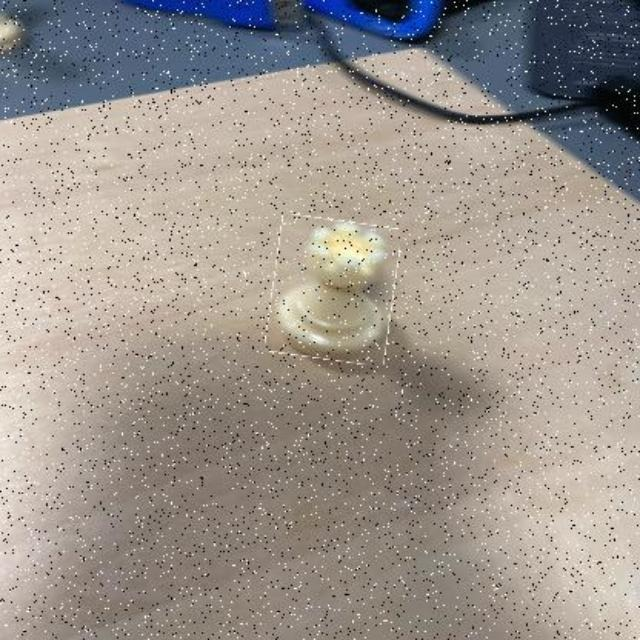white-rook: (271, 218, 397, 364)
